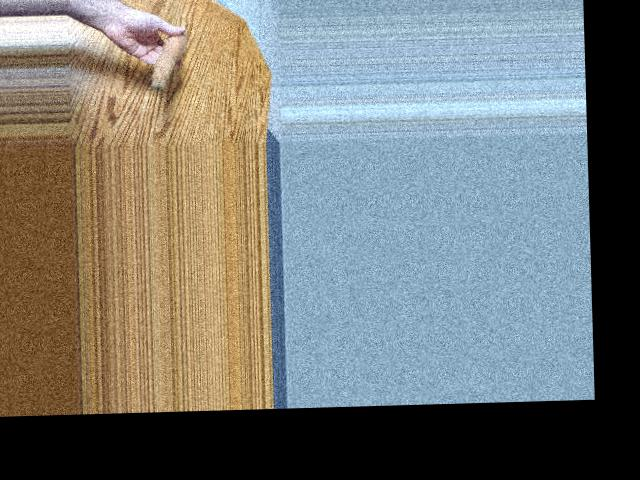sweet_potato: (146, 28, 188, 89)
